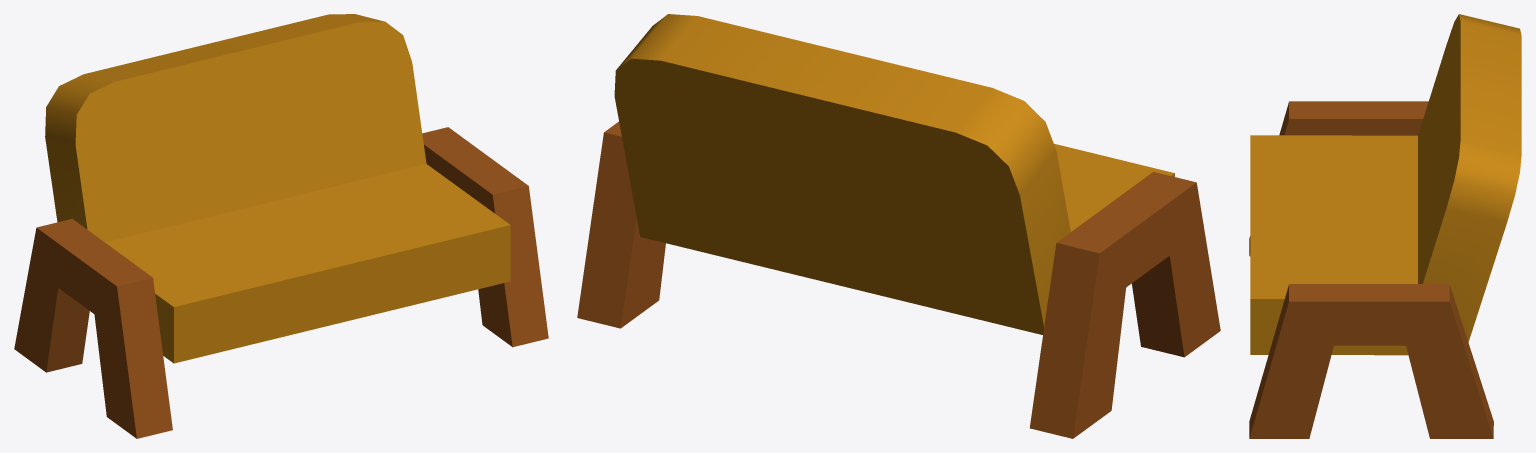
The model's file is bench_01.fbx.
3 views of the same model, side by side, from view 1: azimuth 30°, elevation 25°; view 2: azimuth 150°, elevation 25°; view 3: azimuth 270°, elevation 25° (orthographic). The views are drawn at different scales.
Visible parts, largest first — view 1: bench_01; view 2: bench_01; view 3: bench_01.
Part boxes in pixels (<box>): bench_01: <box>14,14,548,438</box>; bench_01: <box>577,14,1220,438</box>; bench_01: <box>1249,14,1521,438</box>.
Size of the model in its own units: 127 by 76.5 by 73.16.
